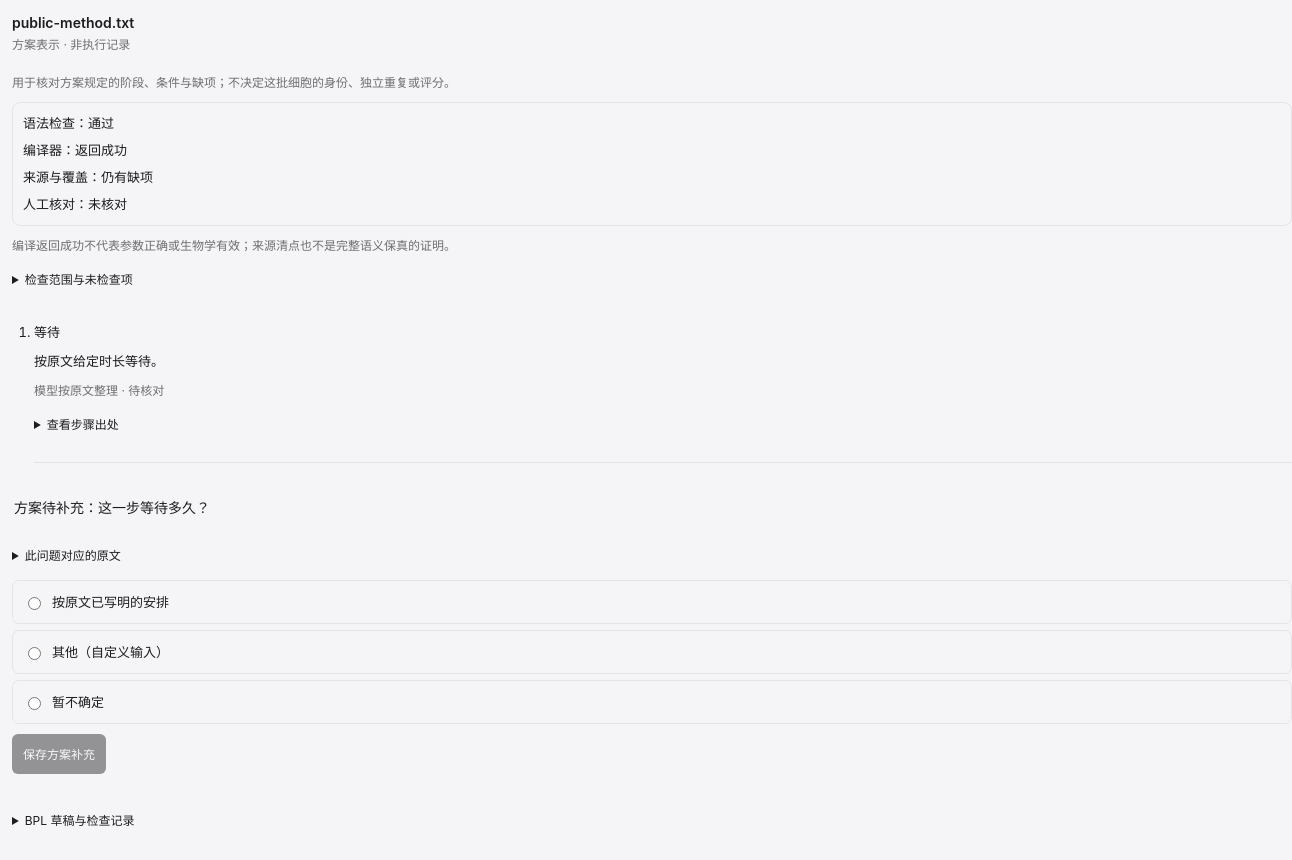
separates compiler completion from source coverage and human review
The width and height of the screenshot is (1292, 860).
Expected: the list item "语法检查：通过" is shown, x1=23 y1=115 x2=114 y2=131
Expected: the list item "编译器：返回成功" is shown, x1=23 y1=142 x2=127 y2=158
Click the heading "检查范围与未检查项". click: {"x": 79, "y": 279}
box: x1=25 y1=272 x2=133 y2=287
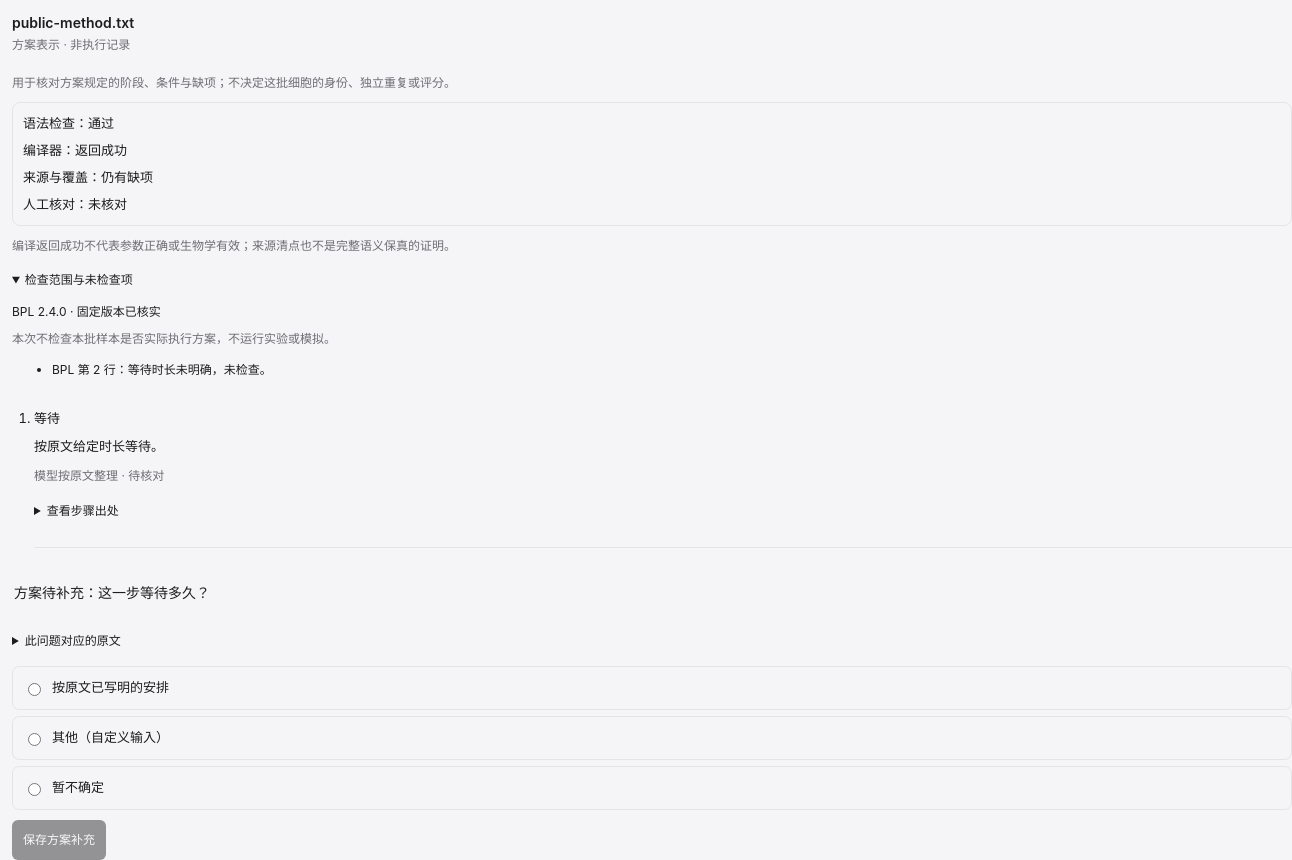
Expected: the list item "BPL 第 2 行：等待时长未明确，未检查。" is shown, x1=52 y1=362 x2=272 y2=377
Click the heading "查看步骤出处". click: {"x": 83, "y": 510}
box: x1=47 y1=503 x2=119 y2=518
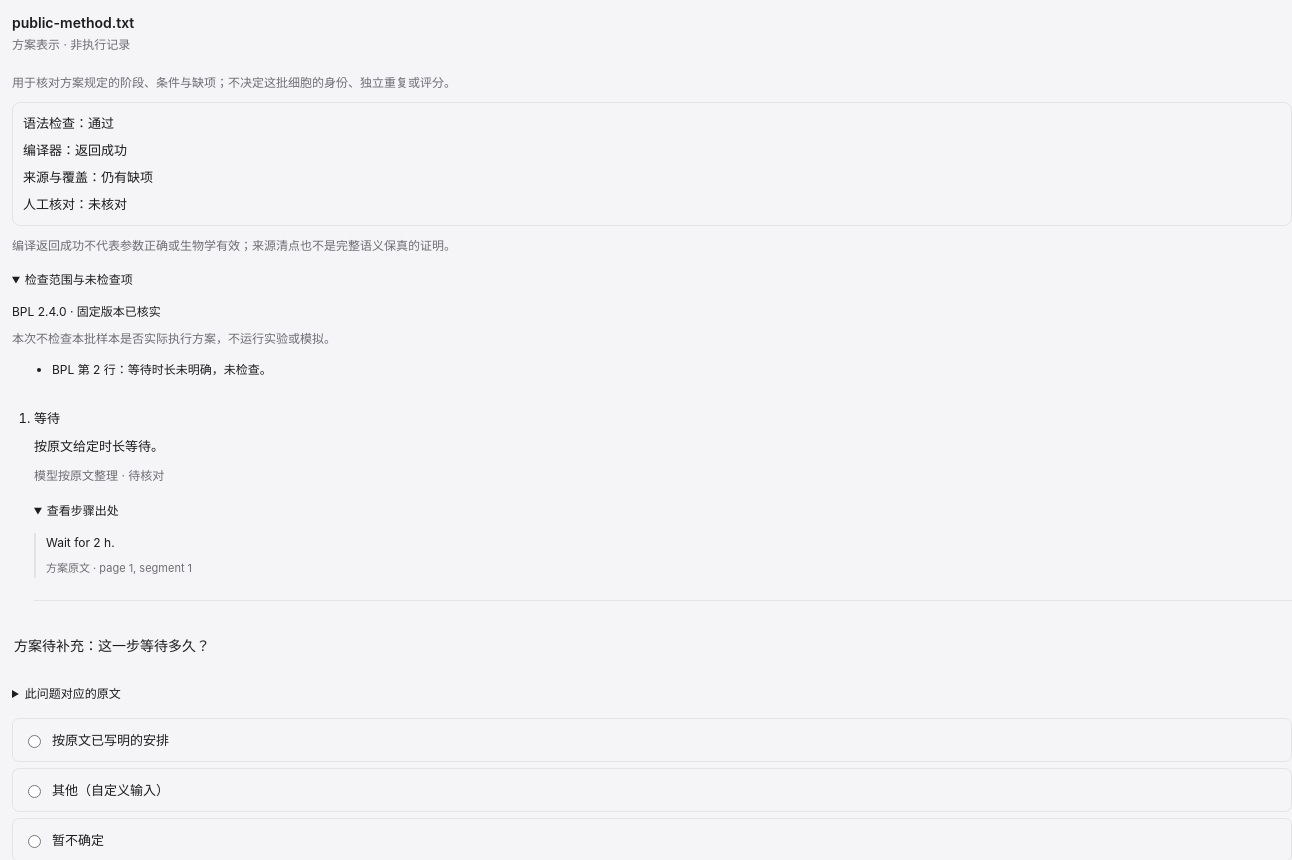
Expected: the text "Wait for 2 h." is shown, x1=46 y1=535 x2=115 y2=550
